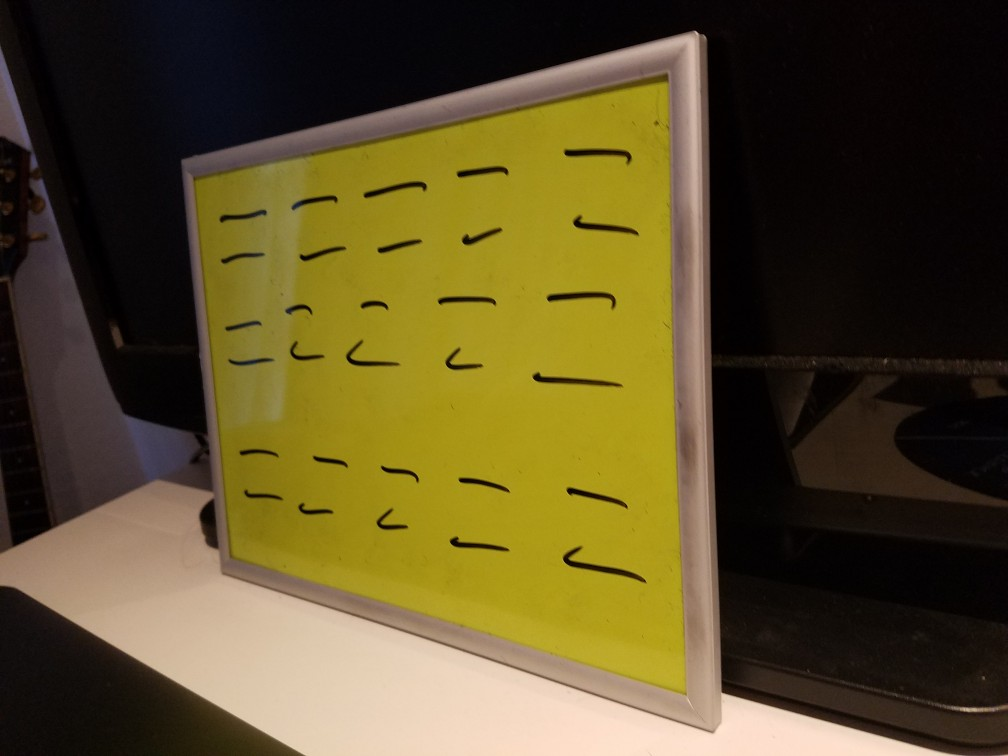=: (529, 273, 642, 400), (552, 474, 654, 607), (557, 124, 653, 256), (439, 452, 523, 573), (424, 274, 506, 391), (350, 160, 440, 262), (442, 148, 520, 257), (329, 287, 409, 382), (353, 435, 420, 544), (287, 440, 356, 528), (289, 181, 356, 271), (212, 193, 273, 281), (228, 428, 288, 517), (217, 301, 271, 377), (280, 295, 328, 374)
